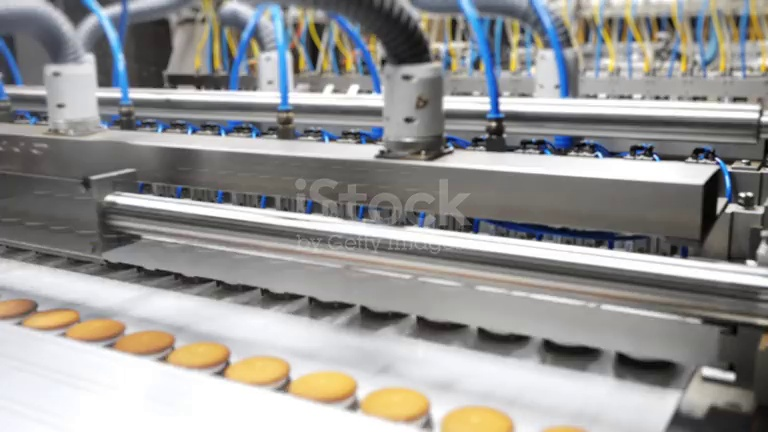machine: (13, 0, 768, 285)
produit: (289, 372, 361, 421), (228, 356, 289, 400), (366, 388, 431, 429), (174, 335, 230, 374), (119, 323, 170, 364), (443, 406, 517, 432), (80, 315, 117, 357), (27, 312, 79, 340), (13, 292, 34, 338)
